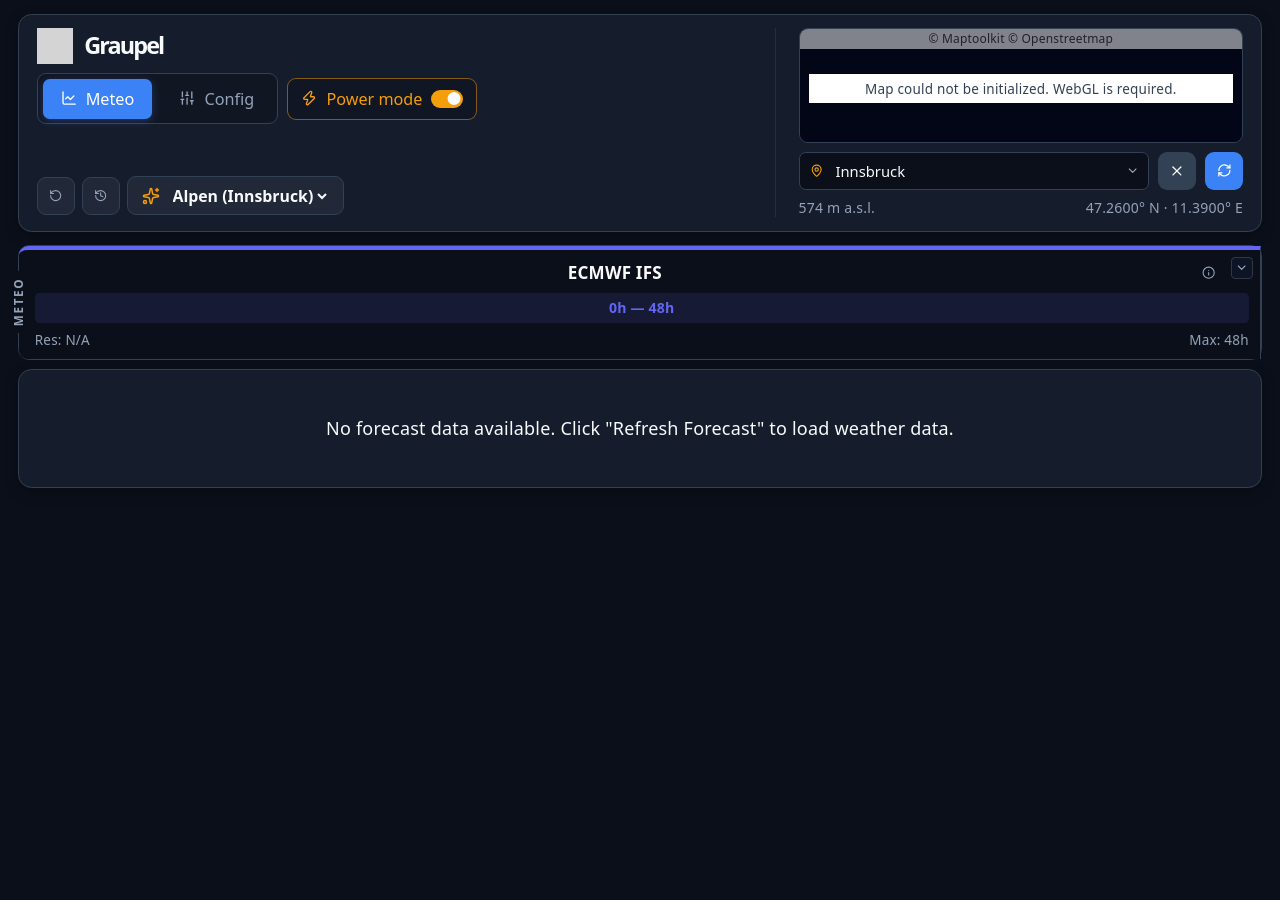
Test: Historic data viewer (spec §10, #144) › lists archived fetches, draws one and returns to live
Expected: the element with test id "model-card-ECMWF IFS" is shown, top-left (19, 246), bottom-right (1261, 359)
Click the button with test id "history-button": (101, 196) top-left (82, 176), bottom-right (120, 215)
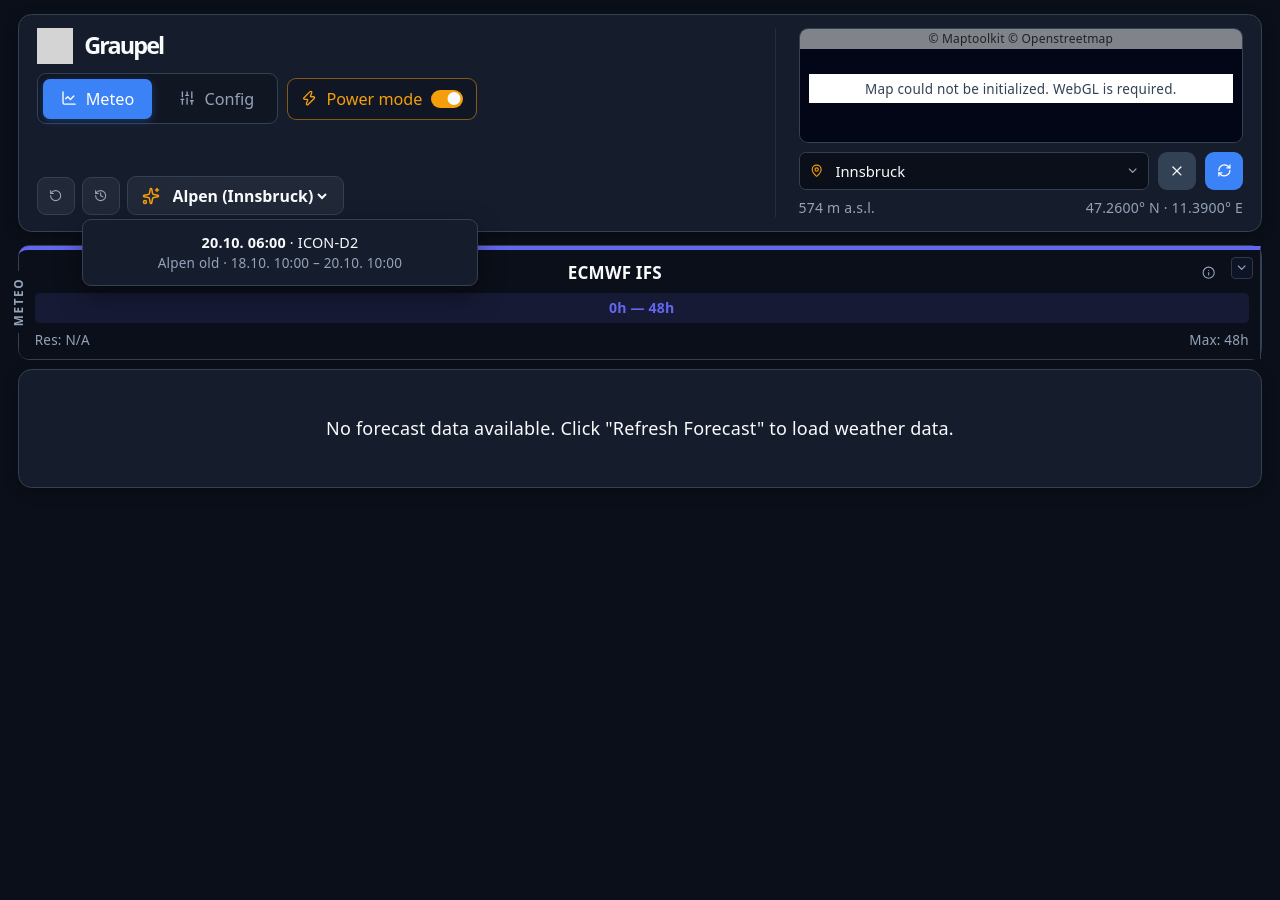
Now the option with test id "history-item-7" shows "ICON-D2"
Now the option with test id "history-item-7" shows "Alpen old"
Click the option with test id "history-item-7": (280, 252) top-left (158, 232), bottom-right (402, 272)
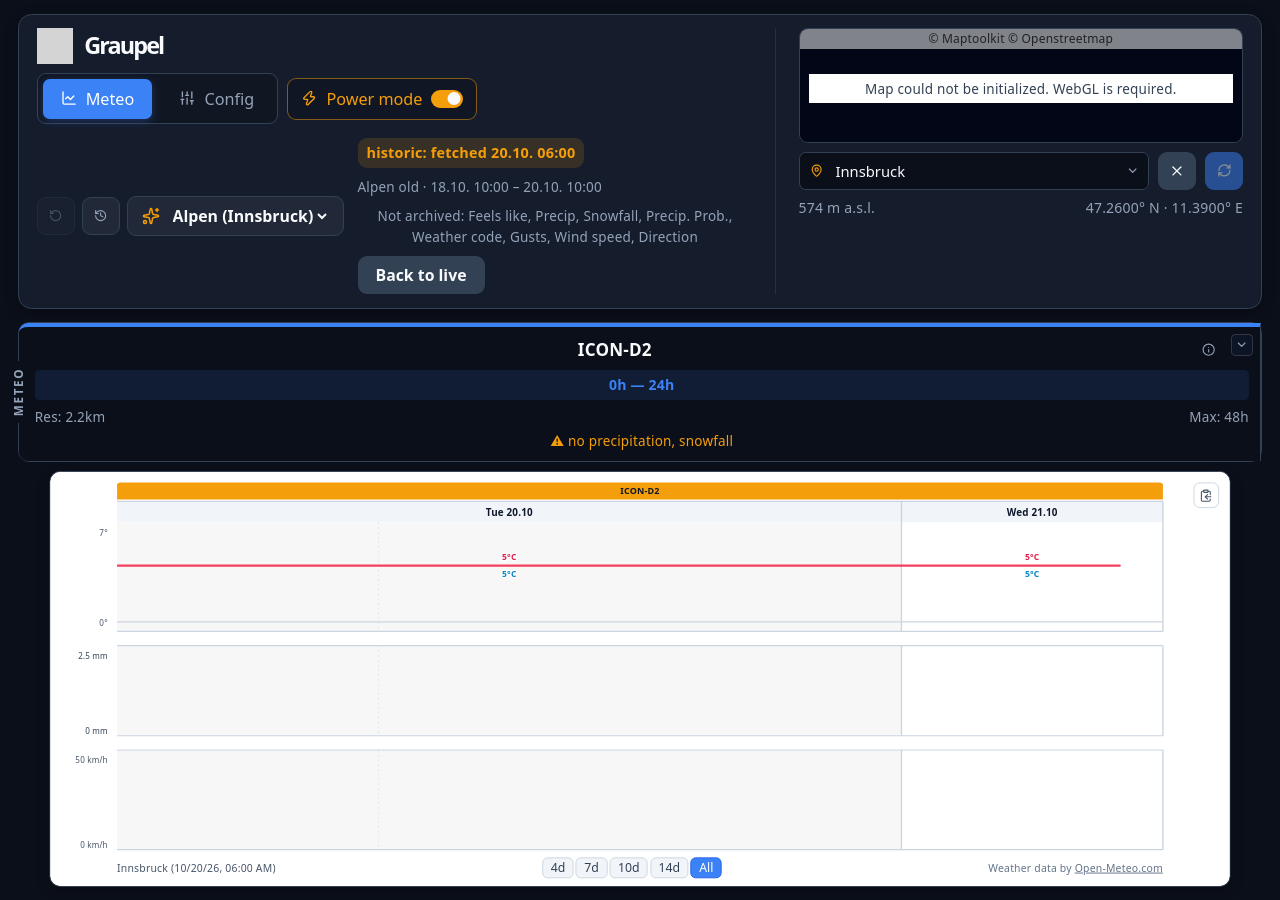
Now the text with test id "historic-version" shows "Alpen old", box top-left (358, 178), bottom-right (602, 196)
Now the text with test id "historic-badge" reads "historic: fetched 20.10. 06:00", box top-left (366, 143), bottom-right (575, 162)
Now the text with test id "historic-missing" shows "Not archived:", box top-left (378, 207), bottom-right (468, 225)
Click the button with test id "historic-back-to-live": (421, 275) top-left (358, 256), bottom-right (485, 294)
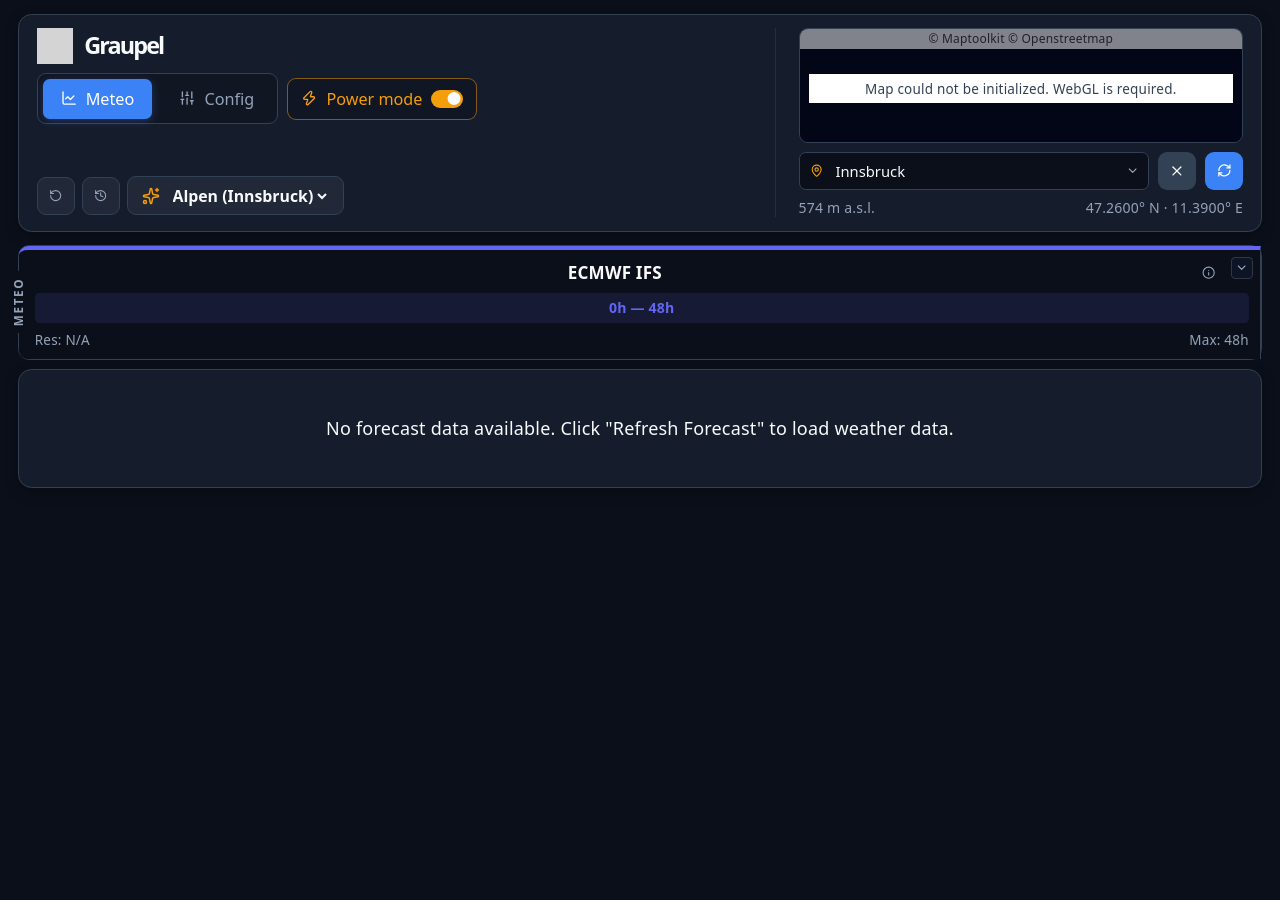
Now the text with test id "historic-badge" is gone
Now the element with test id "model-card-ECMWF IFS" is shown, box top-left (19, 246), bottom-right (1261, 359)
Now the button named "Refresh Forecast" is enabled, box top-left (1205, 152), bottom-right (1243, 190)
